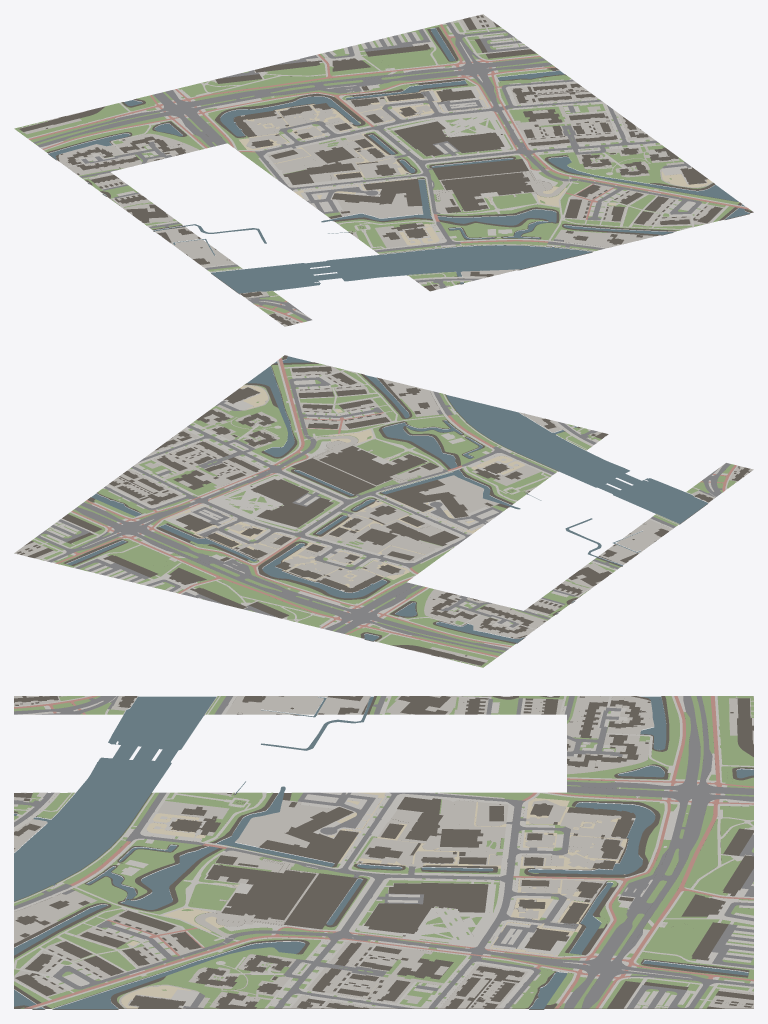
Rendered from buiten.glb.
The picture shows the model from 3 angles, top to bottom: view 1: azimuth 30°, elevation 25°; view 2: azimuth 150°, elevation 25°; view 3: azimuth 270°, elevation 25°; orthographic projection. The views are drawn at different scales.
Parts seen in each view (by area): view 1: bodem, groen, stoep, erf, weg, water, fietspad, zand; view 2: bodem, groen, stoep, erf, weg, water, fietspad, zand; view 3: bodem, groen, erf, stoep, weg, water, fietspad, zand.
Boxes of the visible parts, x1,y1,x2,y2 form: bodem: (18, 15, 753, 325); groen: (14, 20, 751, 321); stoep: (14, 20, 747, 322); erf: (21, 14, 724, 326); weg: (33, 22, 701, 321); water: (48, 28, 750, 293); fietspad: (28, 24, 750, 322); zand: (239, 86, 711, 245); bodem: (17, 355, 750, 665); groen: (31, 356, 735, 667); stoep: (33, 360, 738, 665); erf: (14, 366, 753, 662); weg: (36, 377, 730, 653); water: (66, 356, 707, 642); fietspad: (55, 357, 736, 657); zand: (165, 385, 524, 587); bodem: (14, 696, 753, 1009); groen: (14, 696, 753, 1008); erf: (14, 696, 753, 1008); stoep: (14, 696, 753, 1008); weg: (14, 696, 753, 1008); water: (14, 696, 753, 1009); fietspad: (14, 696, 753, 1008); zand: (121, 792, 627, 1008).
Bounding box in the file's own units: 600 × 1.01 × 600.
